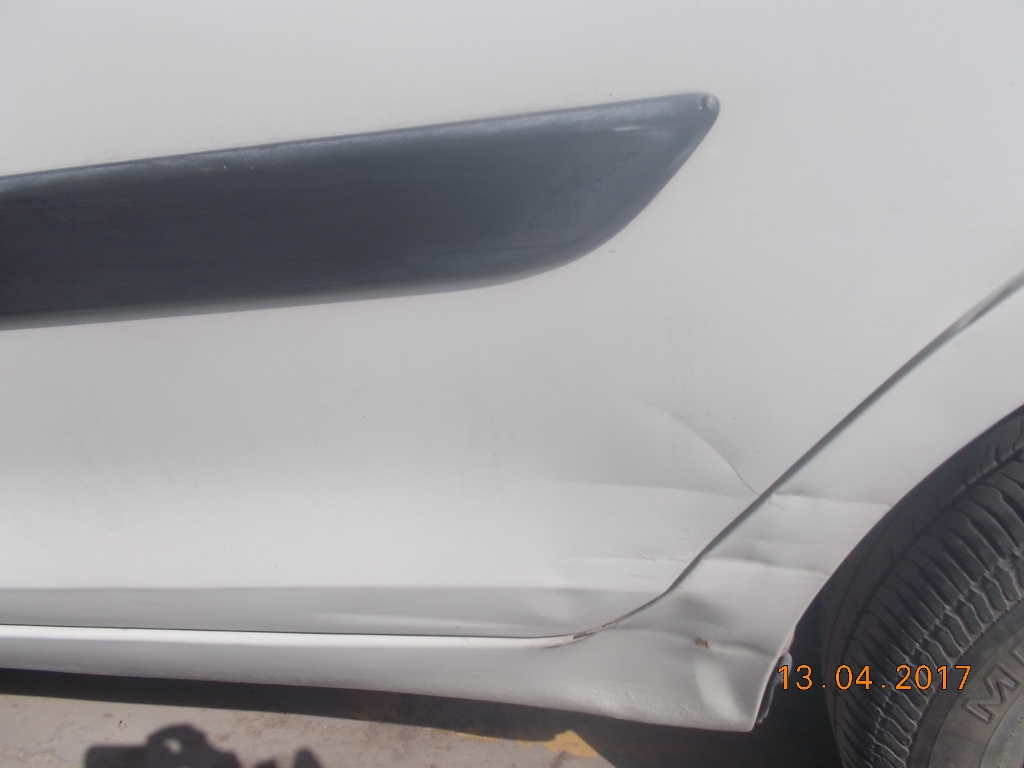Dent: (669, 599, 740, 717), (785, 470, 873, 522), (748, 535, 814, 584)
